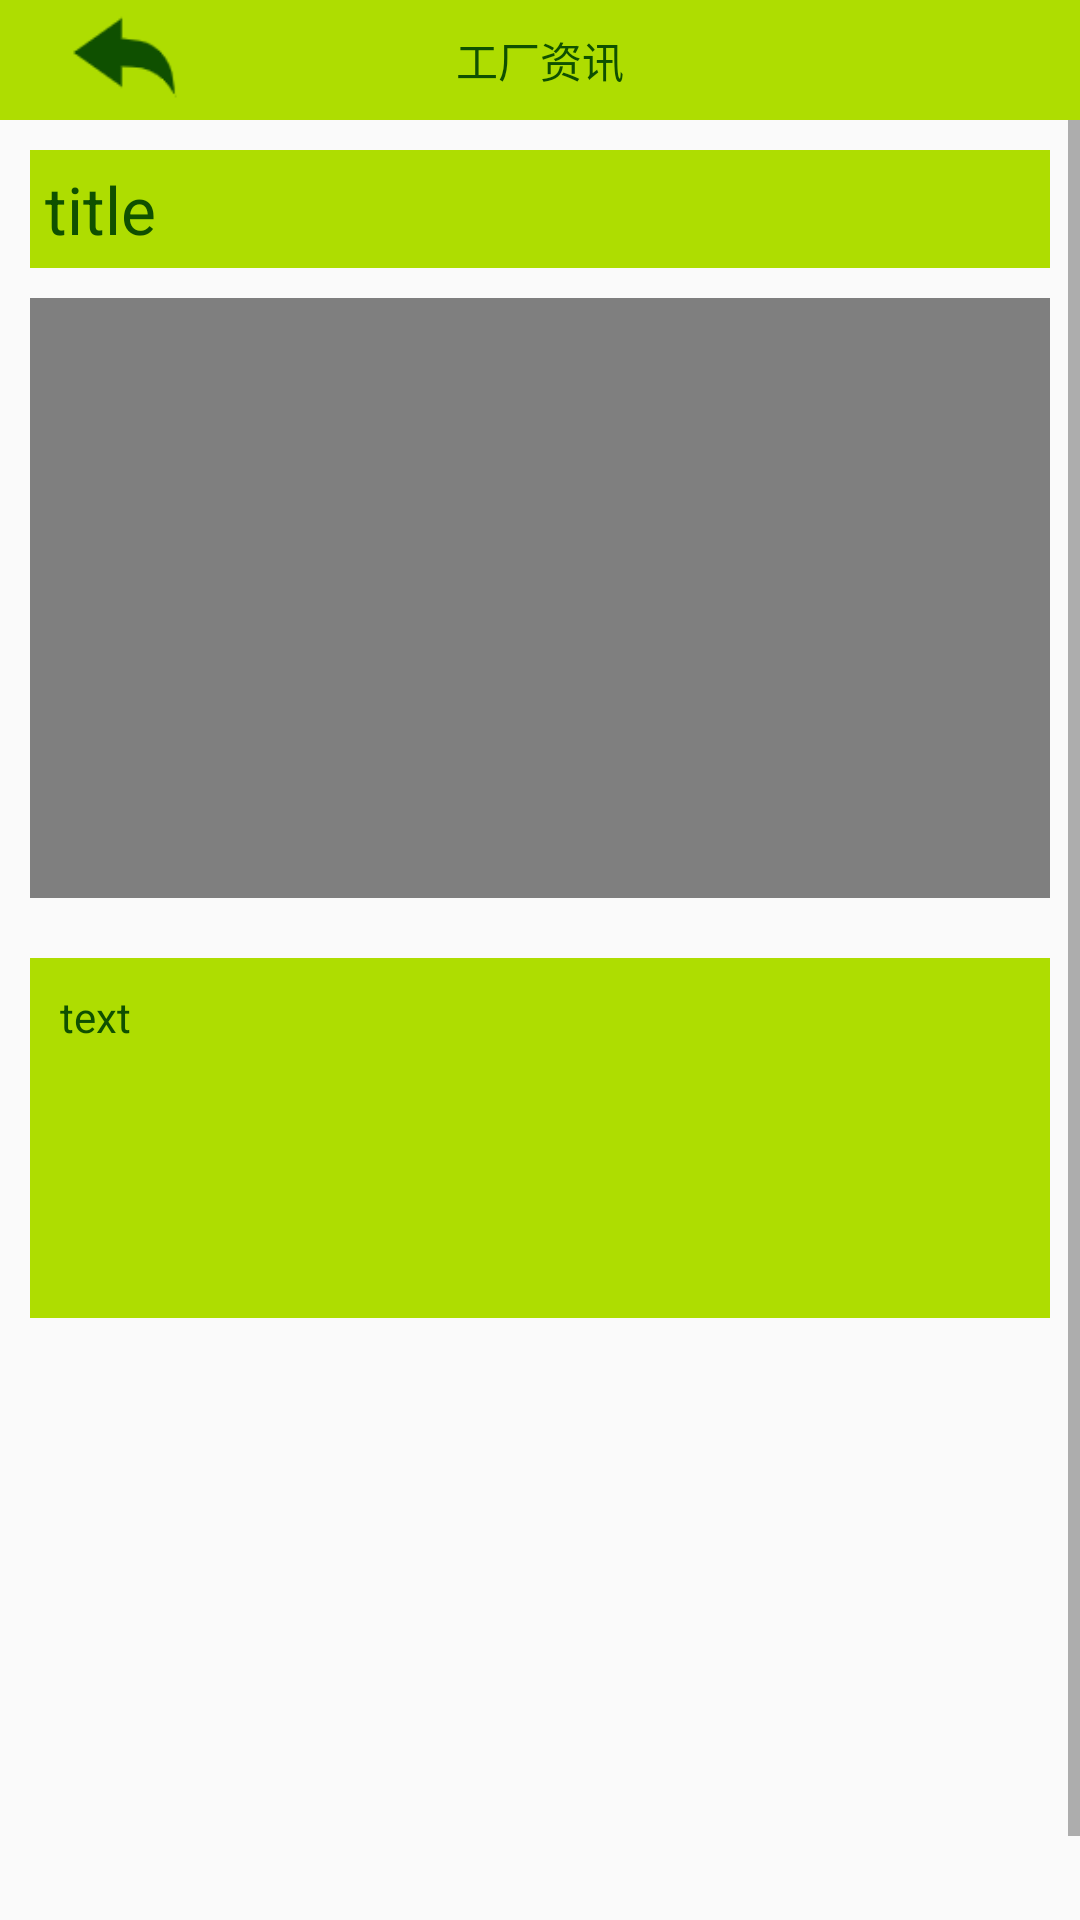

Icons on this 1080w x 1920h Android screen, each with its box as region(x1, y1, x2, y2):
return: region(73, 18, 175, 94)
